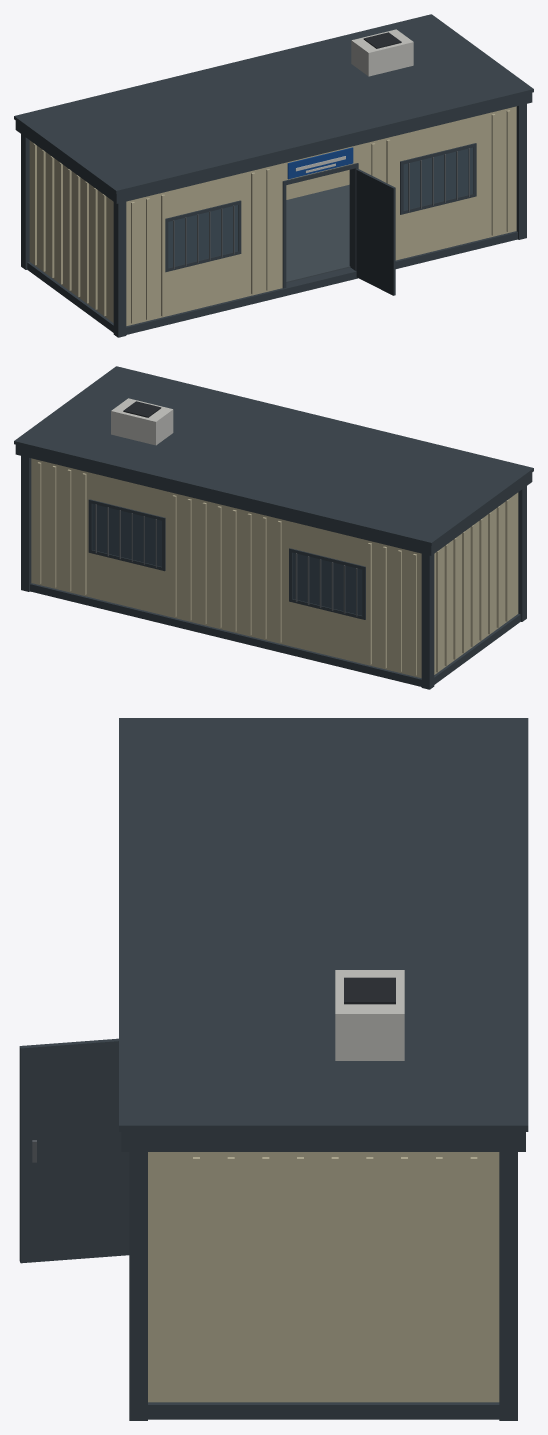
File: gs-cabin.glb
3 views of the same model, one above another, from view 1: azimuth 30°, elevation 25°; view 2: azimuth 150°, elevation 25°; view 3: azimuth 270°, elevation 25° (orthographic). The views are drawn at different scales.
Parts seen in each view (by area): view 1: gs-cabin; view 2: gs-cabin; view 3: gs-cabin.
Boxes of the visible parts, x1=… form: gs-cabin: x1=14, y1=14, x2=533, y2=337; gs-cabin: x1=14, y1=366, x2=533, y2=689; gs-cabin: x1=19, y1=718, x2=528, y2=1420.
Size of the model in its own units: 8.34 by 3.33 by 4.4.
